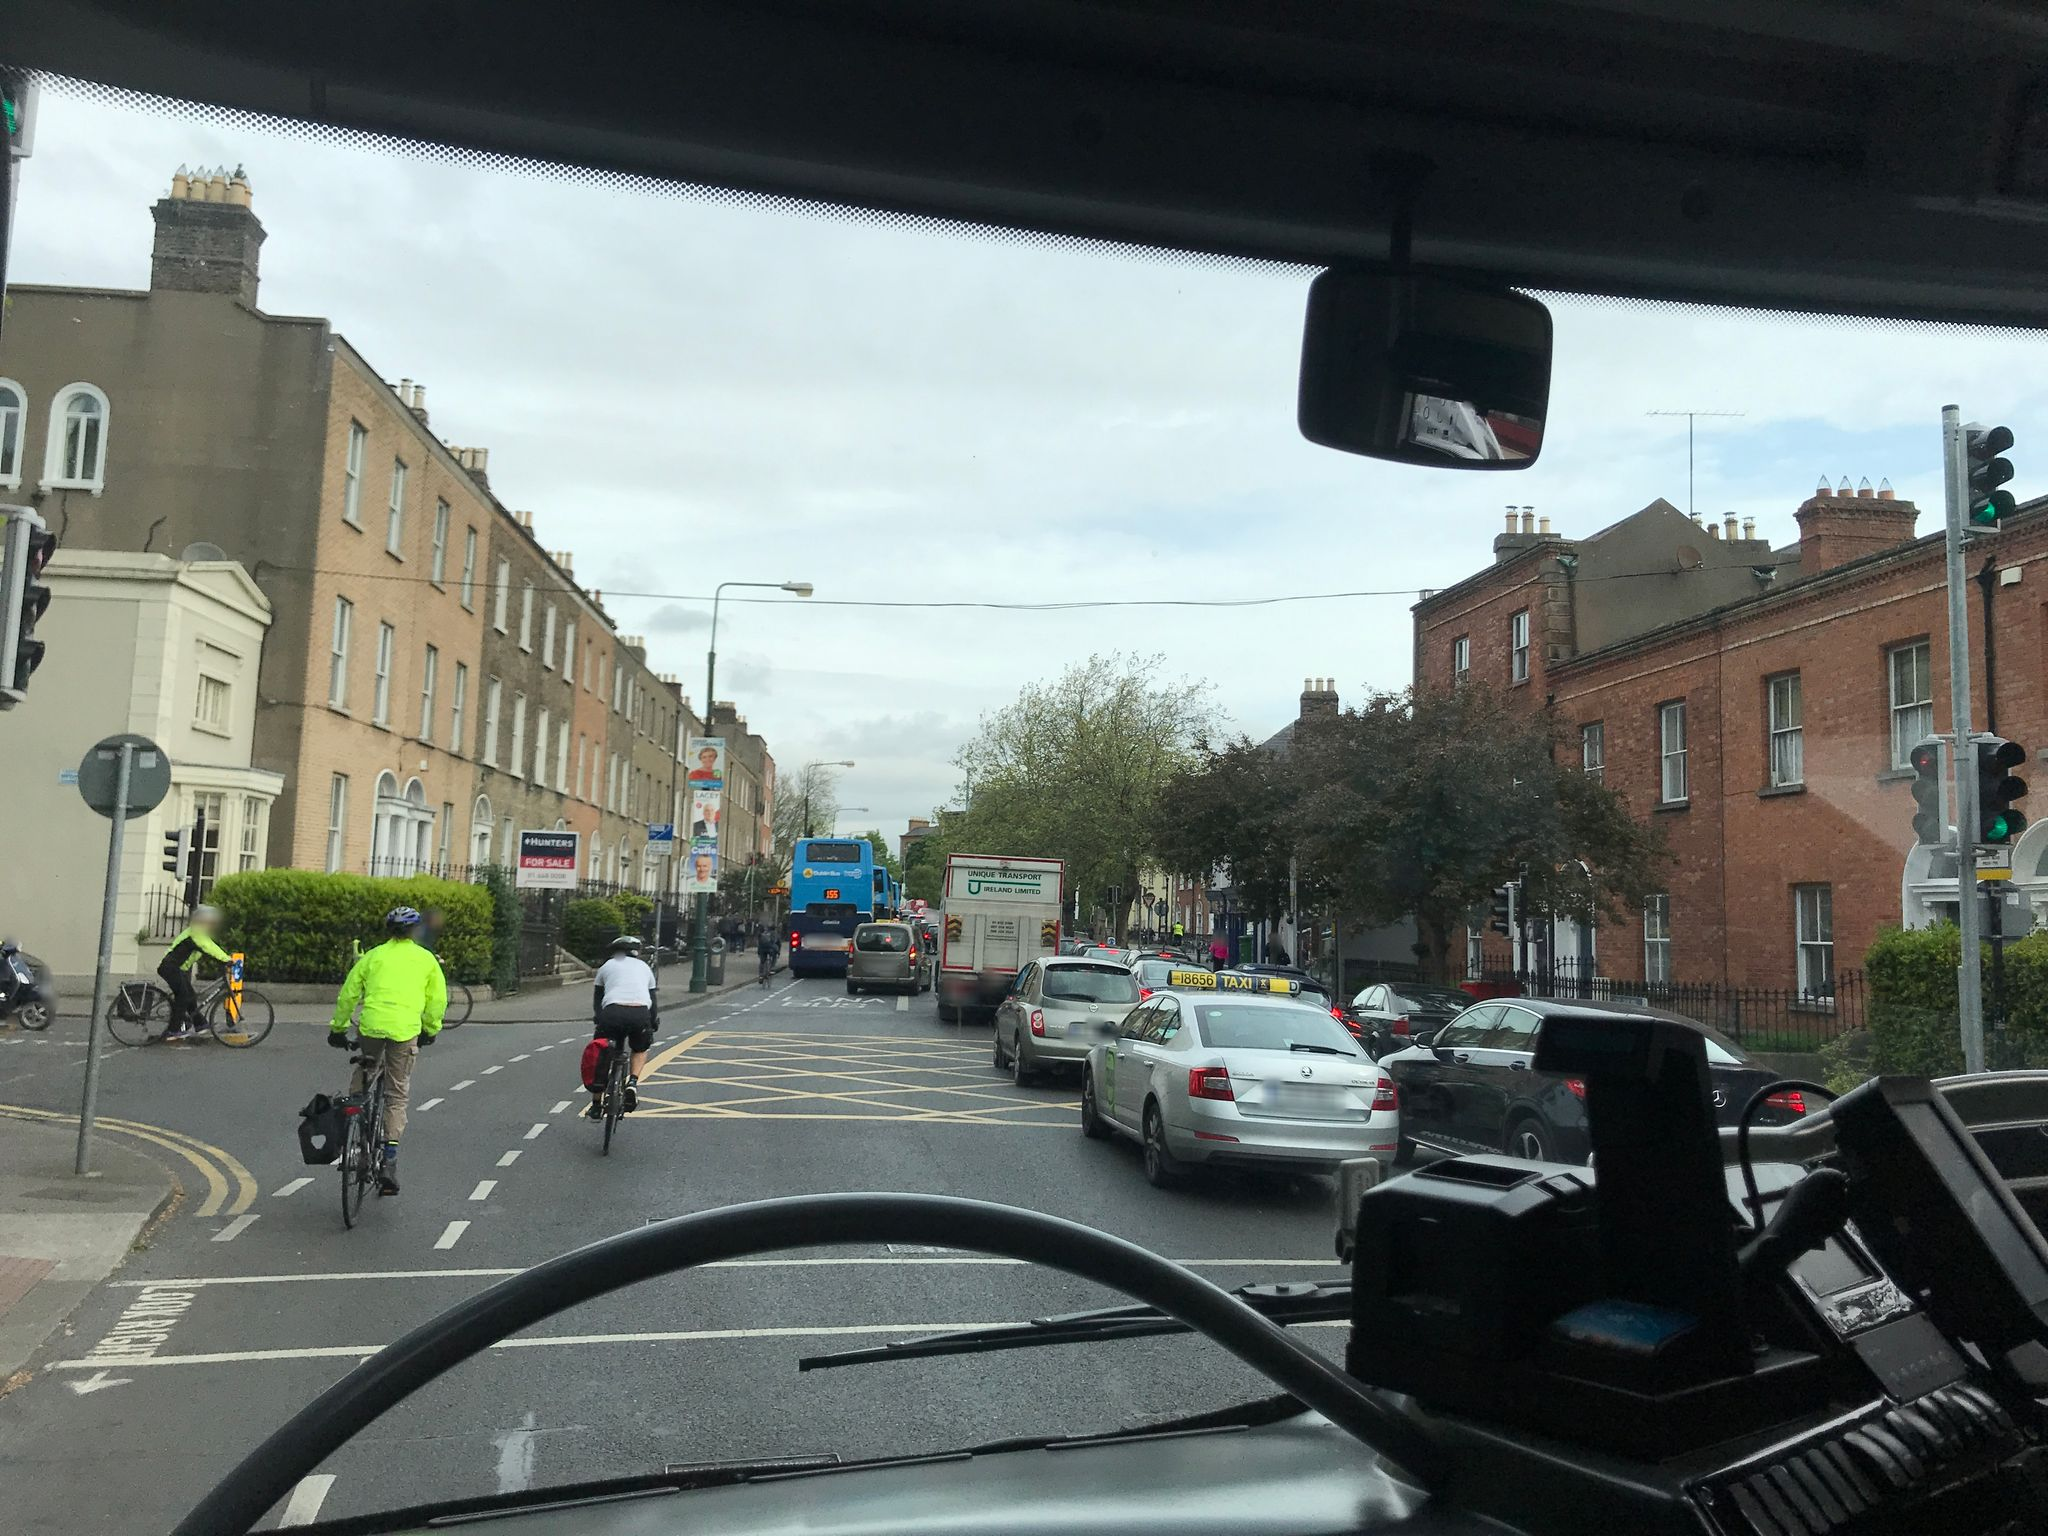property sign: (513, 803, 584, 897)
